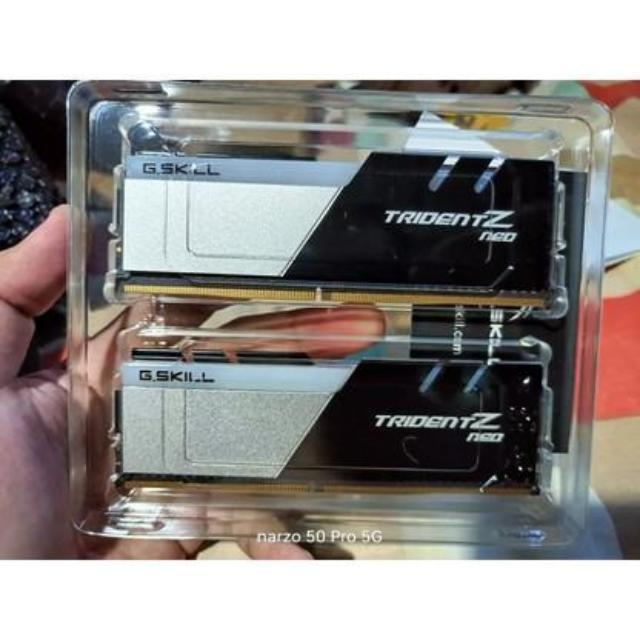RAM: (116, 144, 558, 312), (117, 346, 546, 502)
